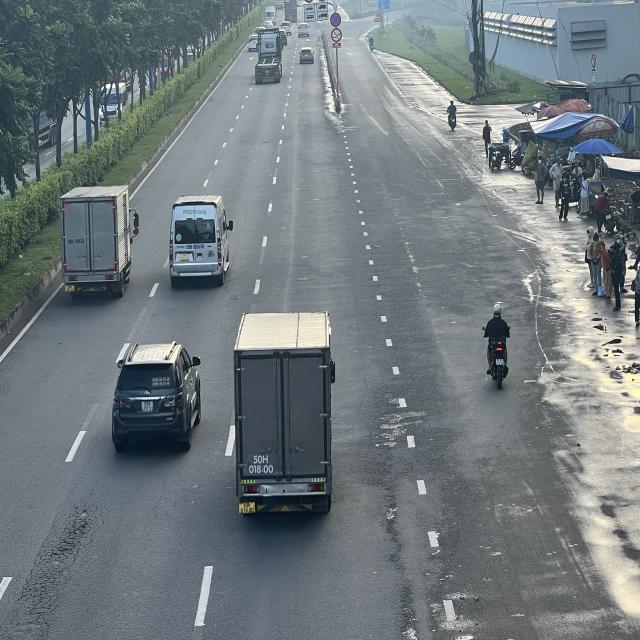car: (110, 340, 201, 450)
container: (254, 28, 285, 84)
truck: (233, 311, 336, 519), (60, 185, 138, 298)
van: (167, 195, 234, 285)
